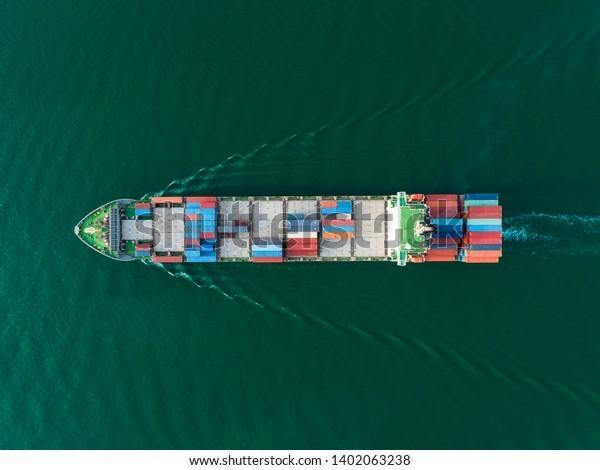Boat: (41, 153, 525, 309)
